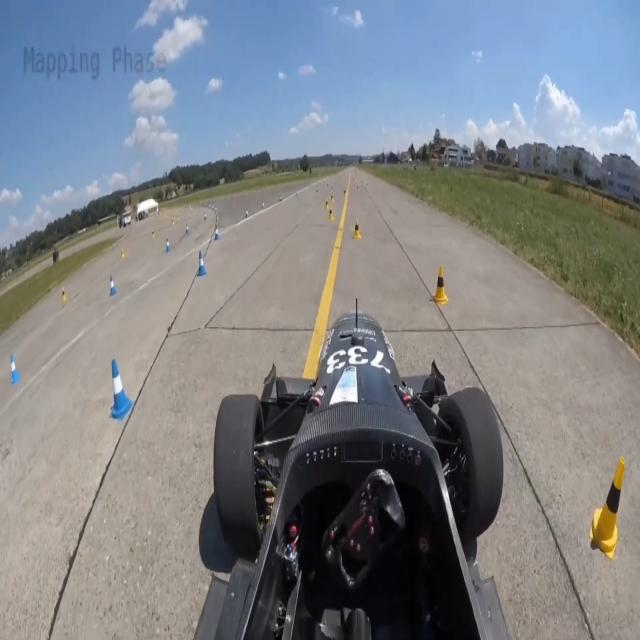blue_cone: (110, 360, 134, 420), (11, 356, 21, 385), (198, 251, 207, 276), (110, 276, 116, 297)
yellow_cone: (589, 456, 626, 559), (433, 266, 448, 304), (354, 218, 362, 239)
